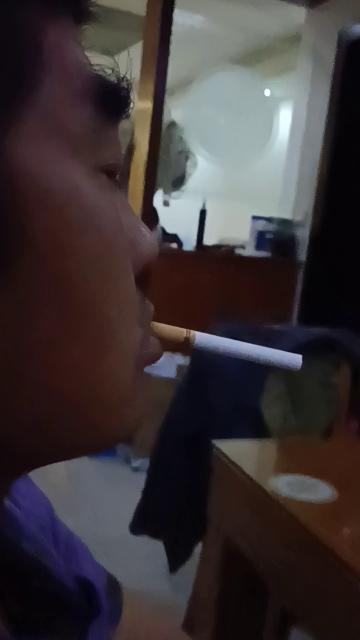Cigarette: (149, 320, 305, 372)
